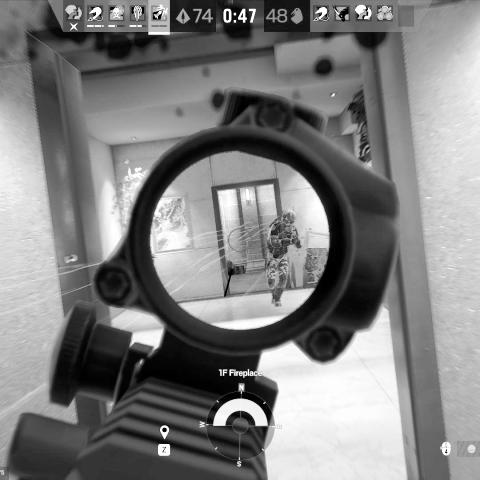Character: (261, 207, 305, 308)
Head: (282, 210, 296, 226)
